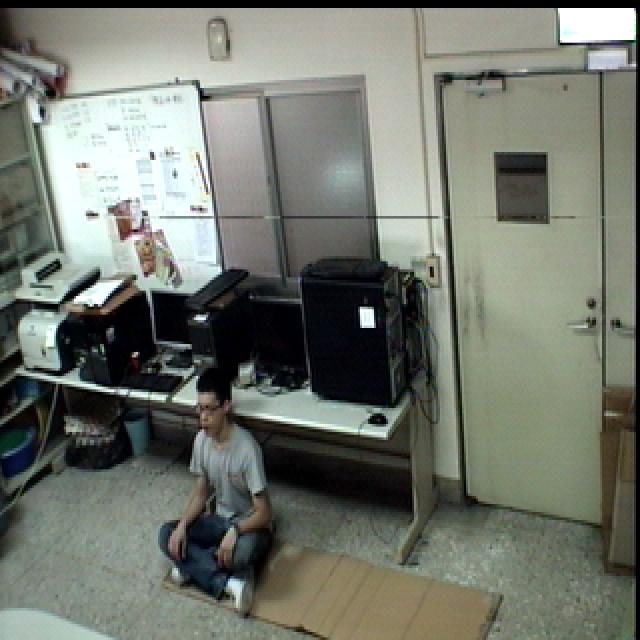sit: (153, 359, 279, 624)
